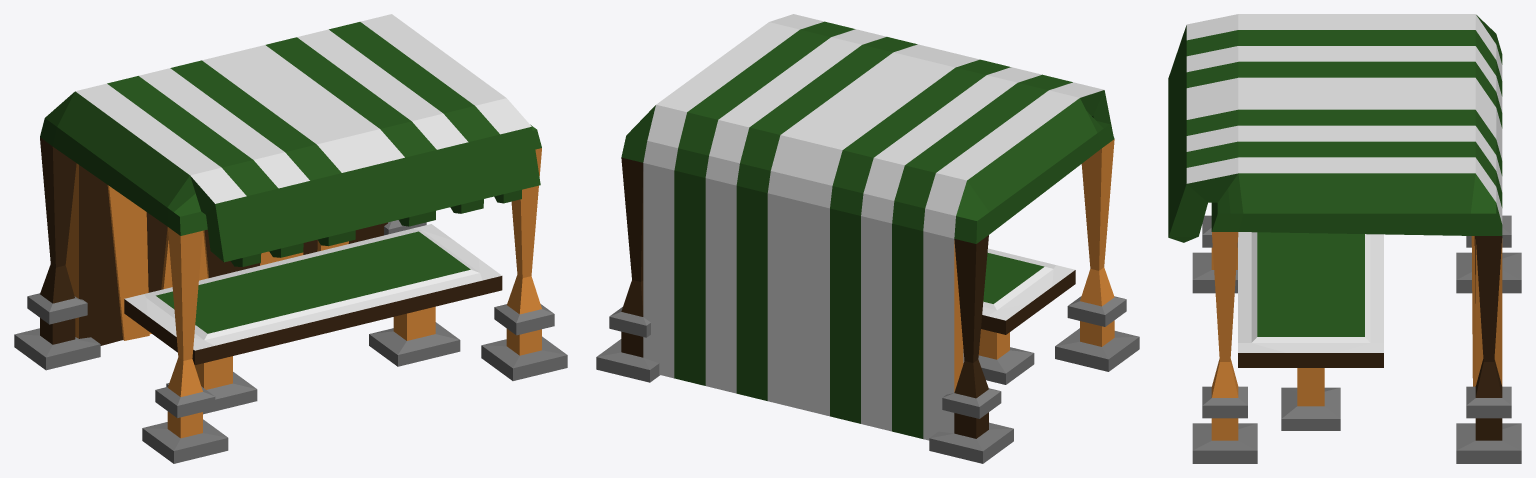
The model's file is market.fbx.
3 renders of one model, left to right at view 1: azimuth 30°, elevation 25°; view 2: azimuth 150°, elevation 25°; view 3: azimuth 270°, elevation 25°, orthographic. The views are drawn at different scales.
Parts seen in each view (by area): view 1: Cube; view 2: Cube; view 3: Cube.
Boxes of the visible parts, x1,y1,x2,y2 form: Cube: (14, 14, 567, 463); Cube: (596, 14, 1139, 463); Cube: (1168, 14, 1521, 463).
Bounding box in the file's own units: 1026 × 655 × 772.
